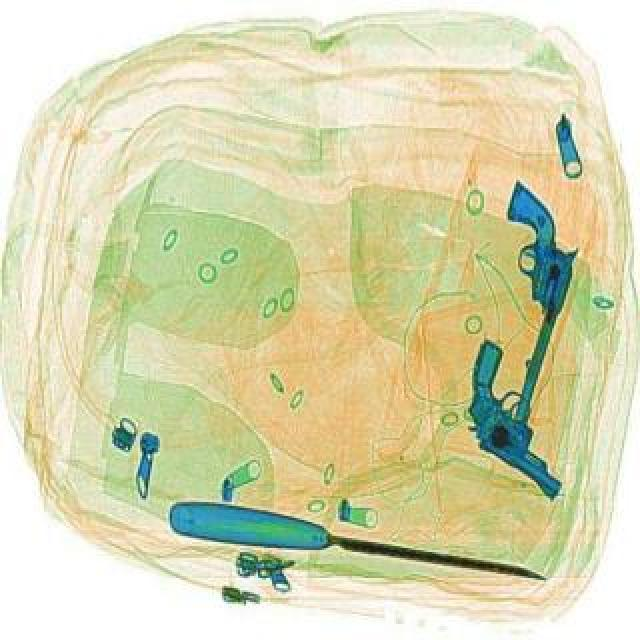gun: (436, 174, 598, 424), (422, 334, 614, 500)
knife: (166, 492, 552, 588)
